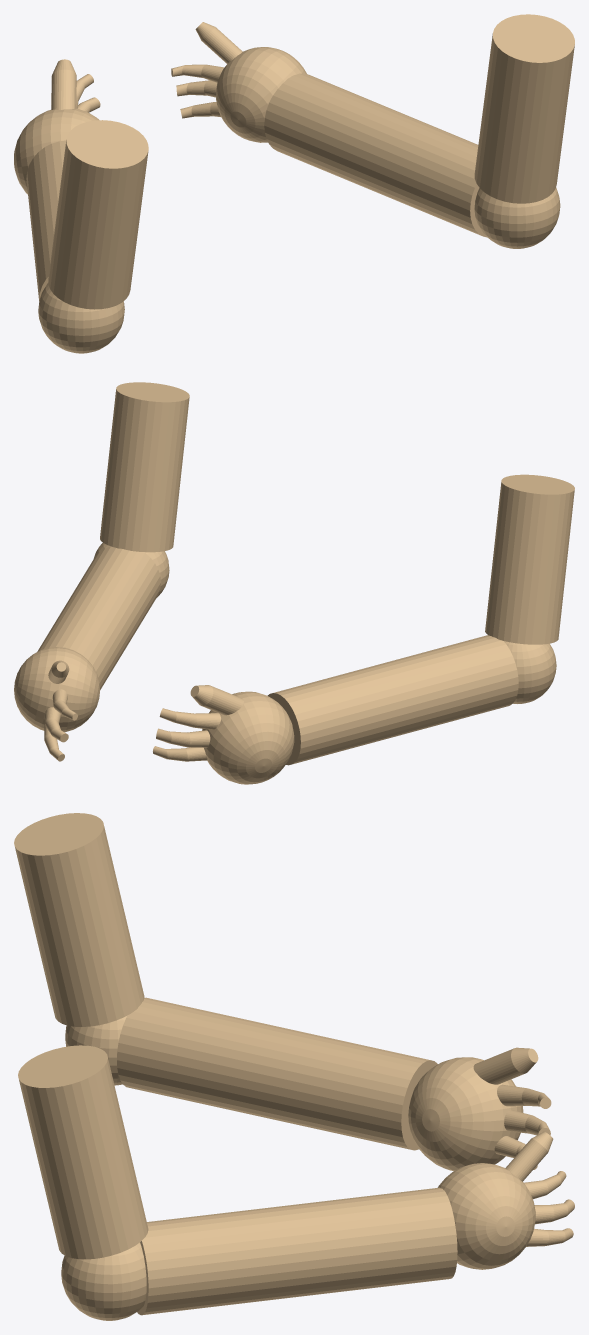
The model's file is Arms0.1.fbx.
3 views of the same model, one above another, from view 1: azimuth 30°, elevation 25°; view 2: azimuth 150°, elevation 25°; view 3: azimuth 270°, elevation 25° (orthographic). The views are drawn at different scales.
Parts seen in each view (by area): view 1: Cylinder.004, Cylinder.005, Cylinder.002, Cylinder.001, Cylinder.003, Cylinder.008, Cylinder.000; view 2: Cylinder.003, Cylinder.005, Cylinder.002, Cylinder.004, Cylinder.008, Cylinder.001, Cylinder.000; view 3: Cylinder.004, Cylinder.003, Cylinder.005, Cylinder.002, Cylinder.008, Cylinder.001, Cylinder.000.
Part boxes in pixels (x1,y1,x2,y2): Cylinder.004: (264,73,560,248); Cylinder.005: (474,14,574,203); Cylinder.002: (48,120,148,309); Cylinder.001: (171,22,306,142); Cylinder.003: (26,140,124,353); Cylinder.008: (14,74,100,194); Cylinder.000: (51,59,76,109); Cylinder.003: (267,635,556,765); Cylinder.005: (100,382,189,552); Cylinder.002: (485,474,574,644); Cylinder.004: (37,543,169,689); Cylinder.008: (153,691,294,784); Cylinder.001: (14,647,99,761); Cylinder.000: (190,685,243,715); Cylinder.004: (61,1187,457,1320); Cylinder.003: (65,997,437,1150); Cylinder.005: (18,1045,148,1259); Cylinder.002: (14,813,144,1026); Cylinder.008: (408,1057,551,1171); Cylinder.001: (437,1131,574,1269); Cylinder.000: (473,1047,538,1084).
Size of the model in its own units: 334 by 150 by 287.
